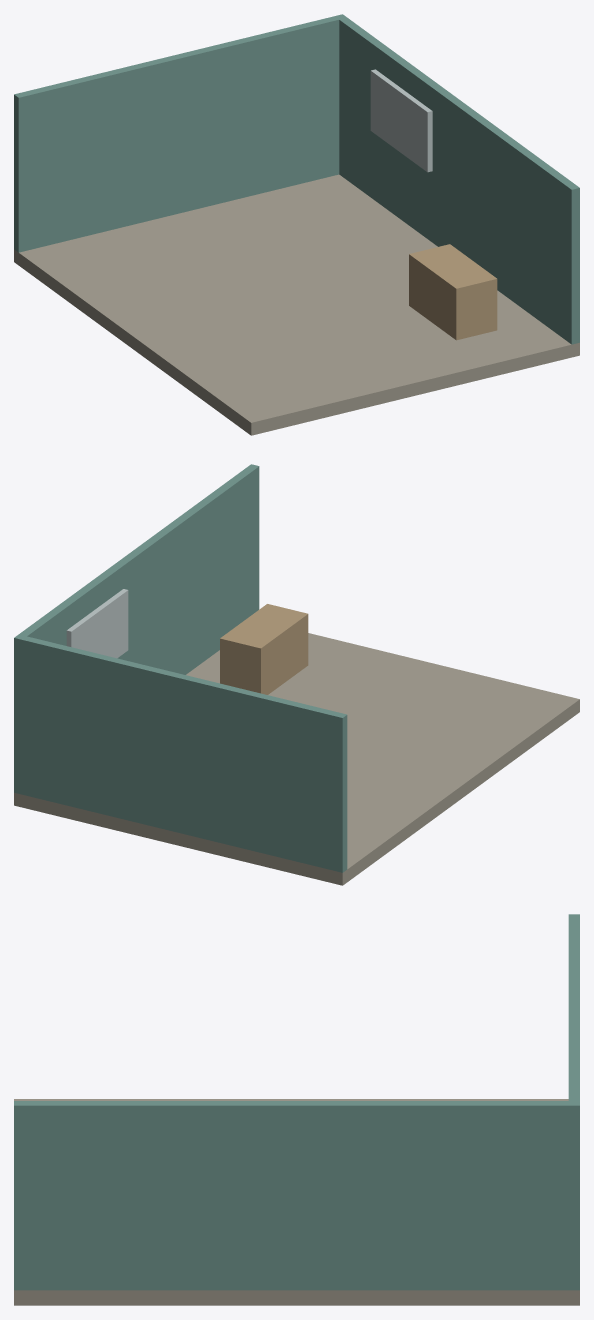
The model's file is room_b.gltf.
3 renders of one model, top to bottom at view 1: azimuth 30°, elevation 25°; view 2: azimuth 150°, elevation 25°; view 3: azimuth 270°, elevation 25°, orthographic. The views are drawn at different scales.
Parts seen in each view (by area): view 1: set; view 2: set; view 3: set.
Part boxes in pixels (x1,y1,x2,y2): set: [14, 14, 579, 435]; set: [14, 464, 579, 885]; set: [14, 914, 579, 1305].
Bounding box in the file's own units: 8 × 3.9 × 10.
